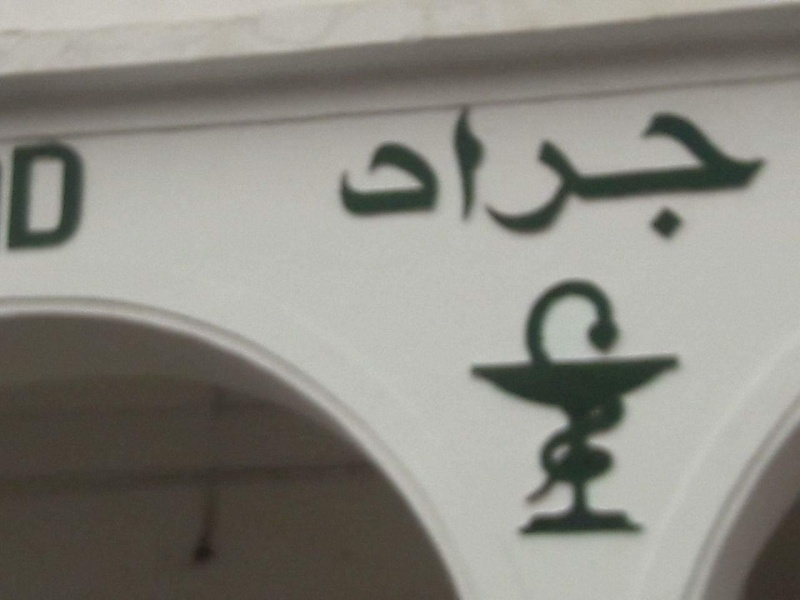text: (337, 94, 352, 256), (353, 94, 368, 256), (369, 94, 384, 256), (385, 94, 400, 256), (401, 94, 416, 256), (417, 94, 432, 256), (433, 94, 448, 256), (449, 94, 464, 256), (465, 94, 480, 256), (481, 94, 496, 256), (497, 94, 512, 256), (513, 94, 528, 256), (529, 94, 544, 256), (545, 94, 560, 256), (561, 94, 576, 256), (577, 94, 592, 256), (593, 94, 608, 256), (609, 94, 624, 256), (625, 94, 640, 256), (641, 94, 656, 256), (657, 94, 672, 256), (673, 94, 688, 256), (689, 94, 704, 256), (705, 94, 720, 256), (721, 94, 736, 256), (737, 94, 752, 256), (753, 94, 767, 256), (17, 140, 32, 254), (33, 140, 48, 254), (49, 140, 64, 254), (65, 140, 80, 254), (9, 140, 16, 254), (81, 140, 88, 254), (334, 94, 336, 256)
